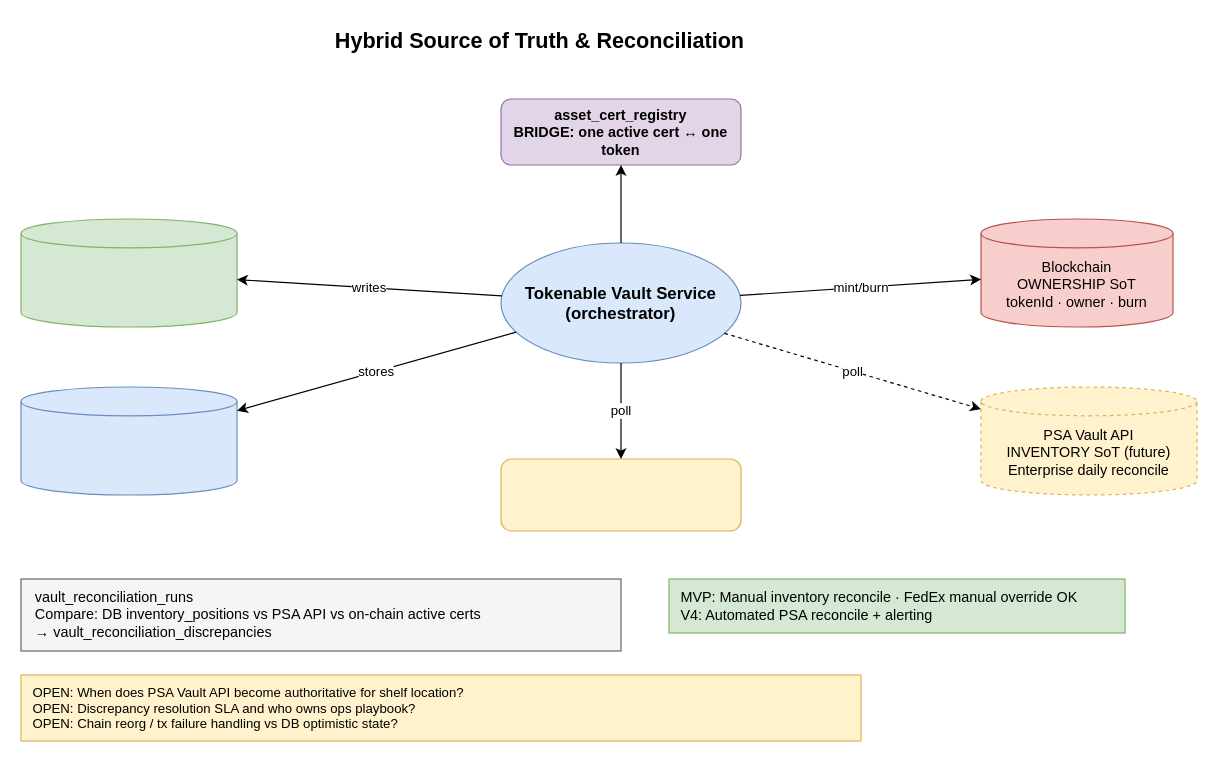
Some shapes in this 1218 by 762 pixel diagram are drawn without their labels. The shapes that lost their labels are listed below. From the top down, each one's box as (x1, y1, x2, y2) in pixels, then its label:
(20, 218, 237, 327): Tokenable DB WORKFLOW SoT submissions · items · states events · mint_jobs
(20, 386, 237, 495): Private Storage PHYSICAL PROOF SoT evidence bundles · sha256
(500, 458, 741, 531): FedEx Track API SHIPMENT SoT inbound + outbound
